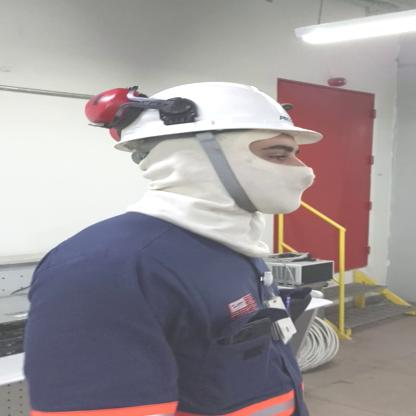Balaclava: (115, 140, 318, 252)
Capacete: (77, 78, 340, 144)
